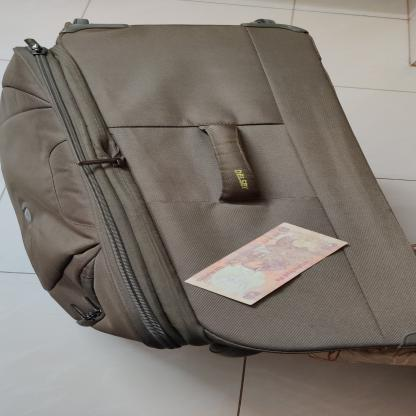Old10Back: (179, 221, 351, 306)
